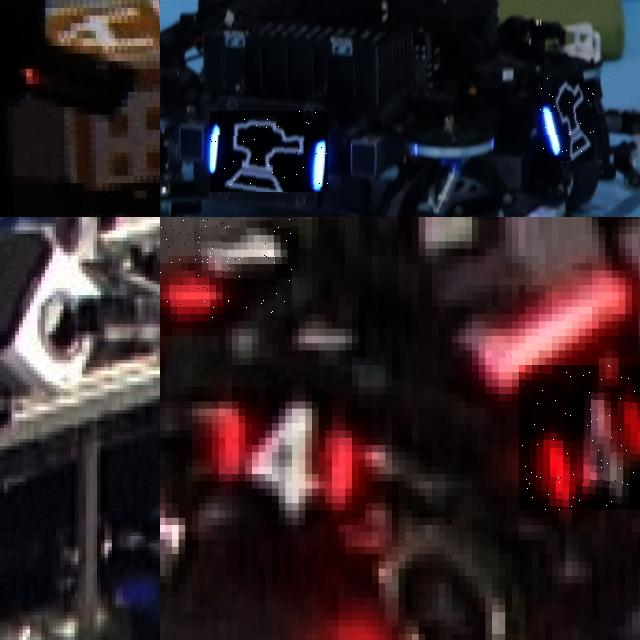Bs: (210, 111, 328, 192), (537, 78, 594, 161)
R4: (165, 394, 372, 525), (518, 364, 640, 510), (160, 217, 292, 321)
